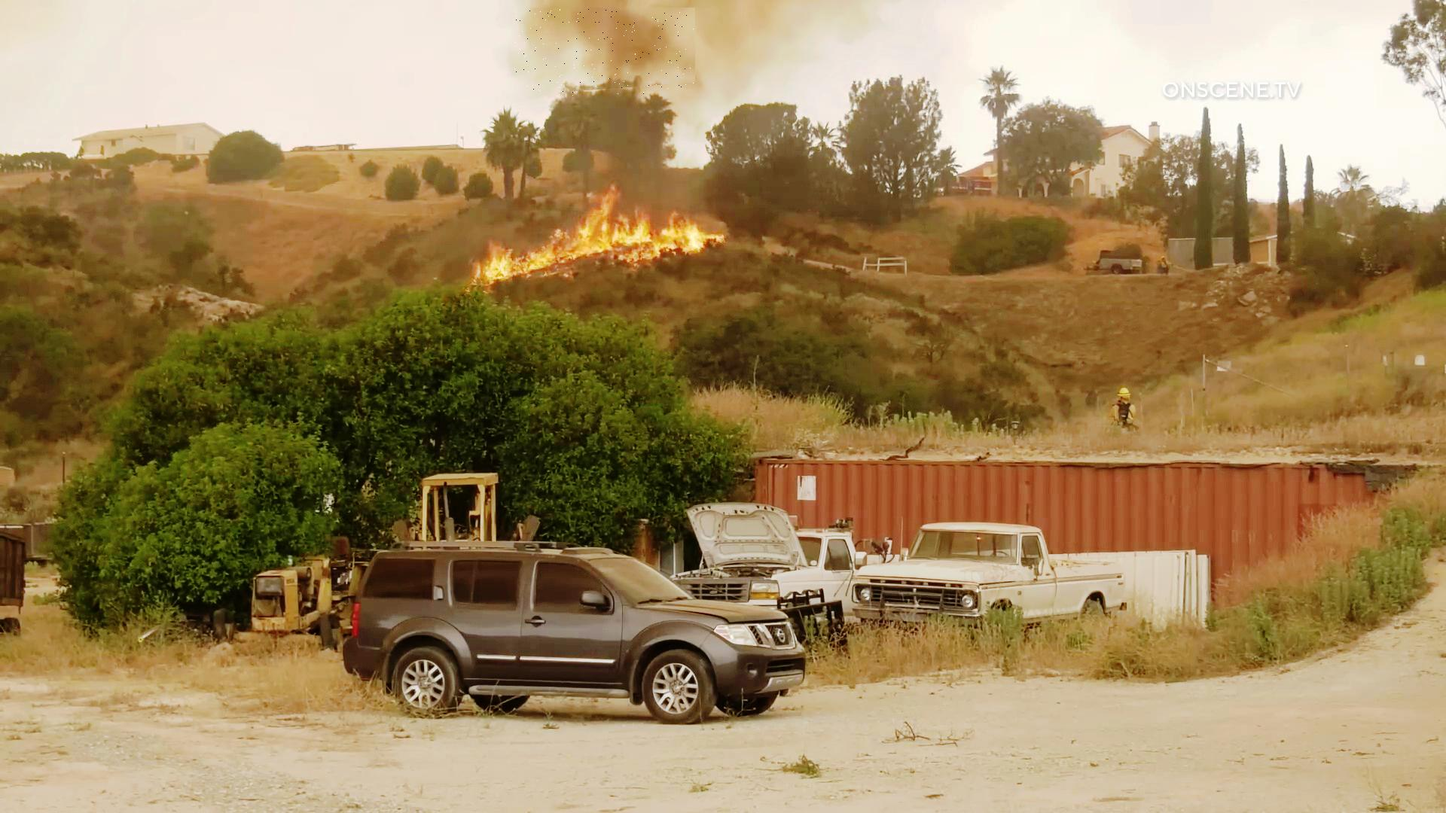fire: (469, 174, 724, 289)
smoke: (514, 8, 695, 96)
